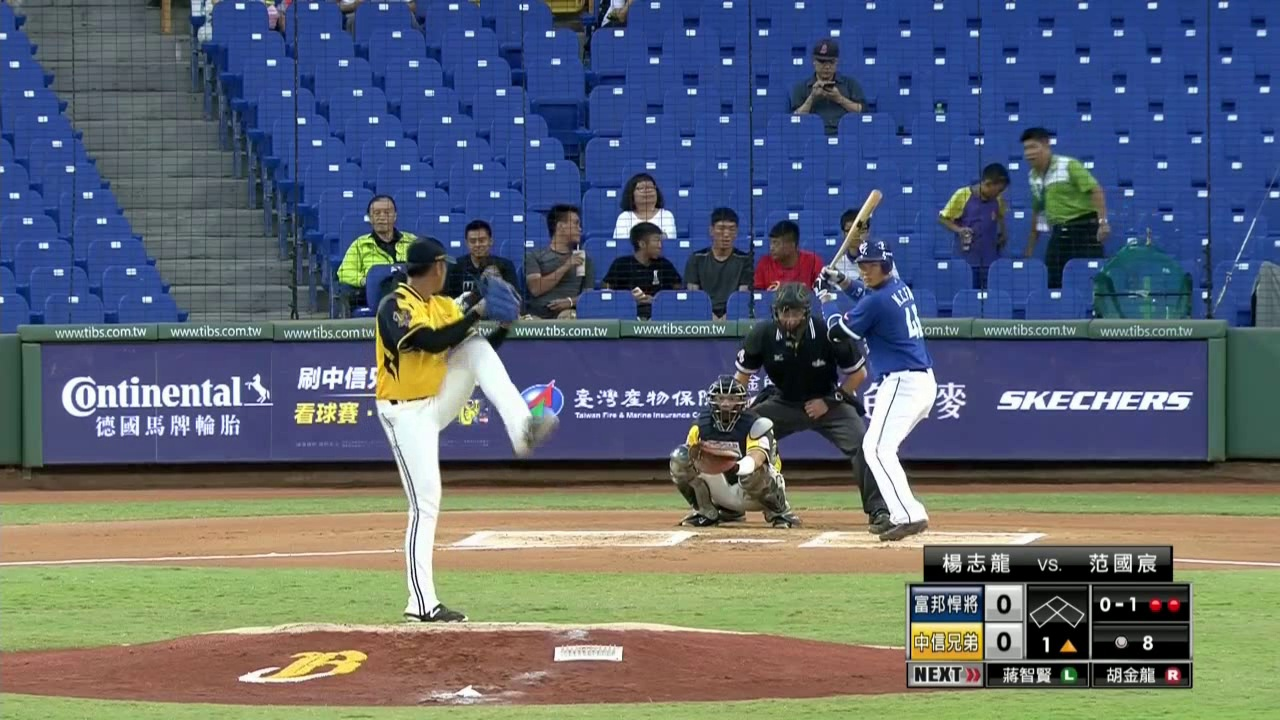base: (1030, 592, 1087, 630)
bat: (827, 188, 888, 268)
out: (1146, 595, 1183, 613)
score1: (985, 584, 1023, 620)
score2: (985, 623, 1024, 657)
session: (1036, 634, 1080, 654)
strikeball: (1096, 594, 1140, 614)
total: (1105, 626, 1164, 652)
